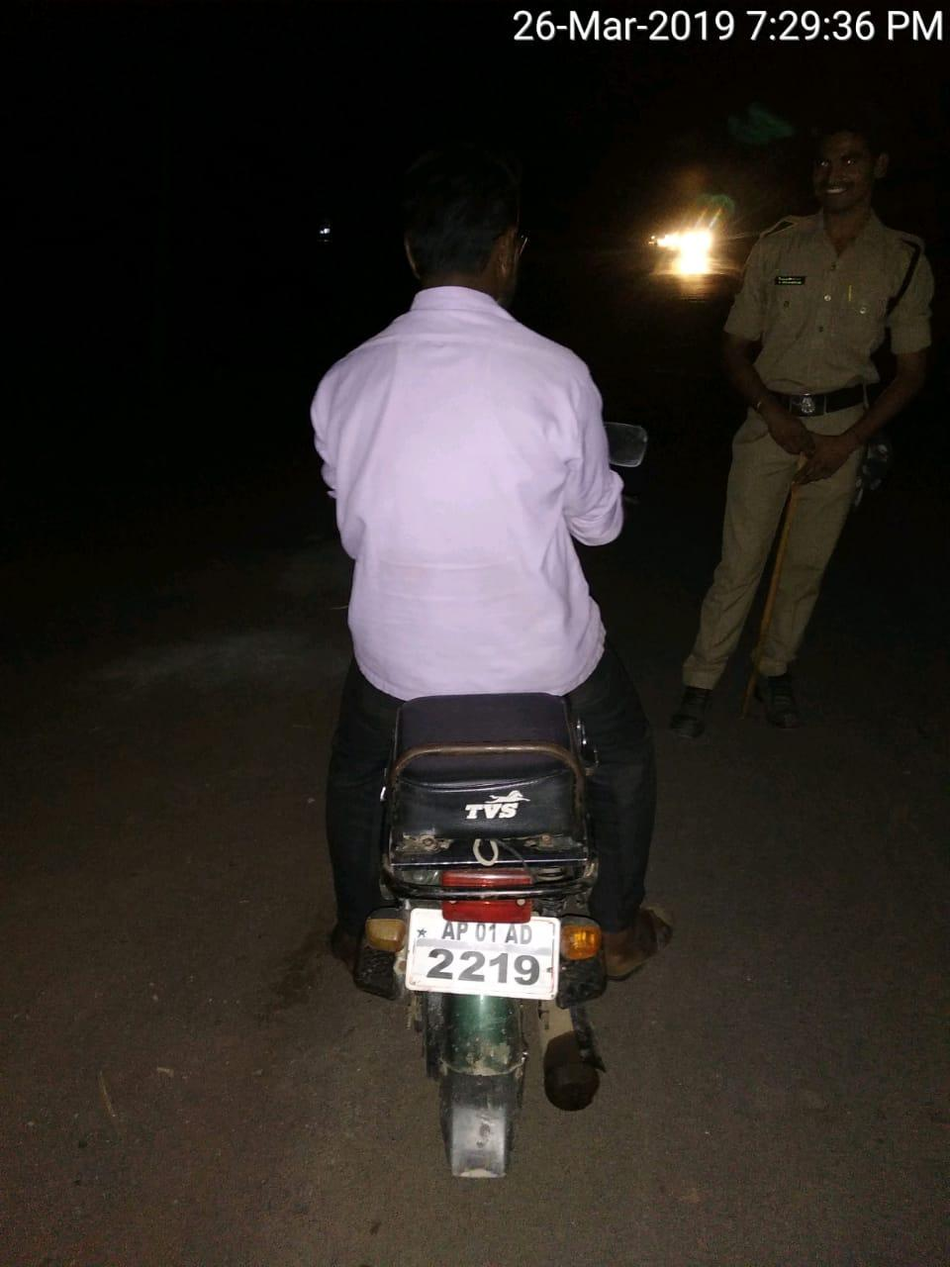plate: (384, 883, 585, 1011)
